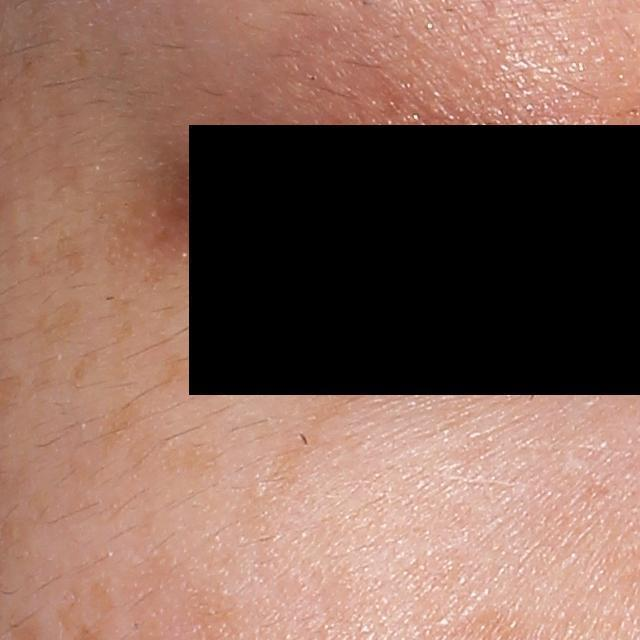melasma: (264, 341, 373, 490), (63, 345, 107, 390), (156, 346, 204, 386), (98, 397, 138, 443)
